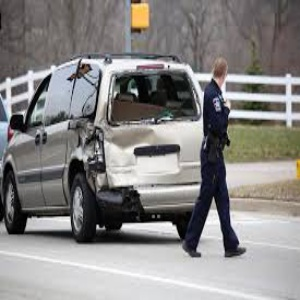bumper: (93, 175, 155, 221)
